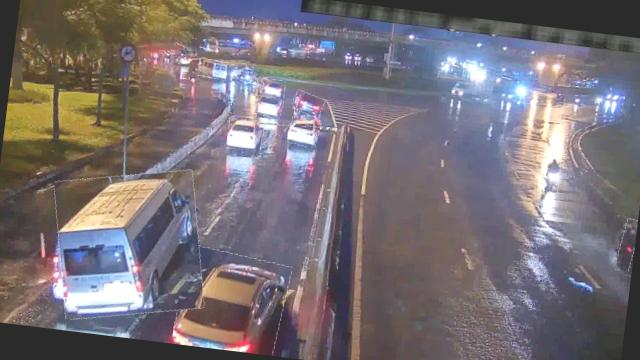Bike: (616, 218, 638, 272), (544, 158, 562, 192)
Bus: (45, 160, 214, 328), (197, 58, 234, 80)
Car: (172, 245, 290, 355), (226, 115, 264, 152), (287, 114, 321, 148), (290, 91, 324, 117), (254, 92, 284, 118), (256, 77, 286, 100), (292, 104, 320, 128)
